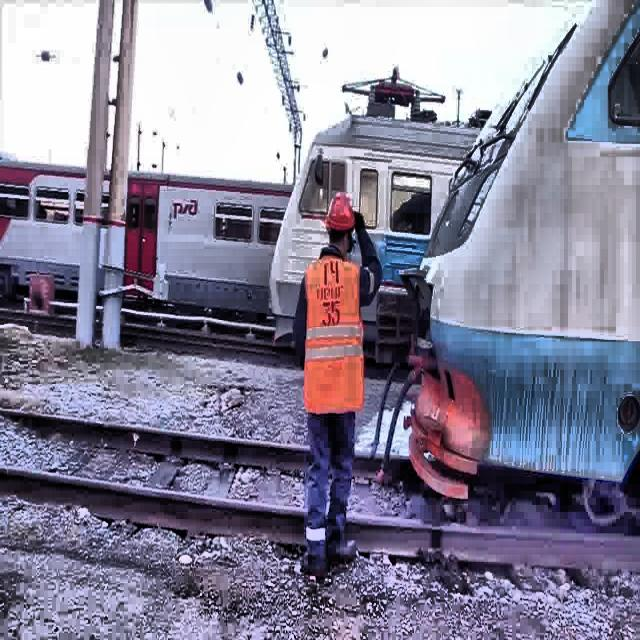safety_helmet: (324, 195, 357, 232)
safety_jacket: (303, 255, 366, 418)
